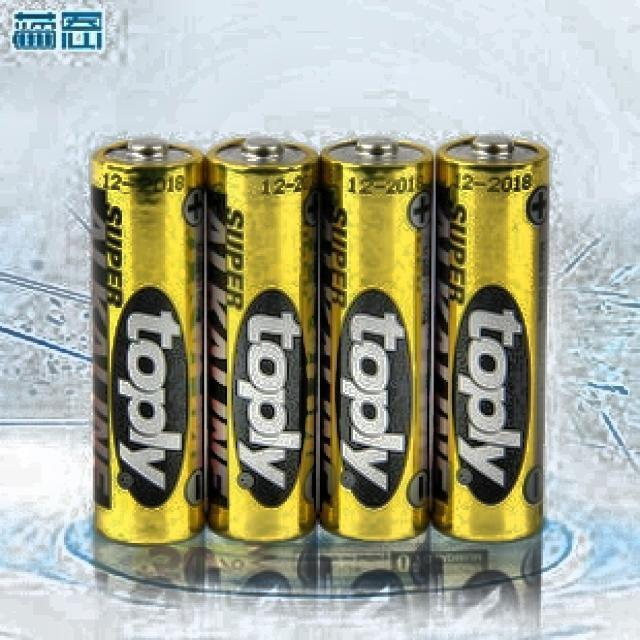battery: (433, 136, 549, 541), (320, 139, 433, 539), (93, 140, 204, 544), (207, 139, 317, 541)
